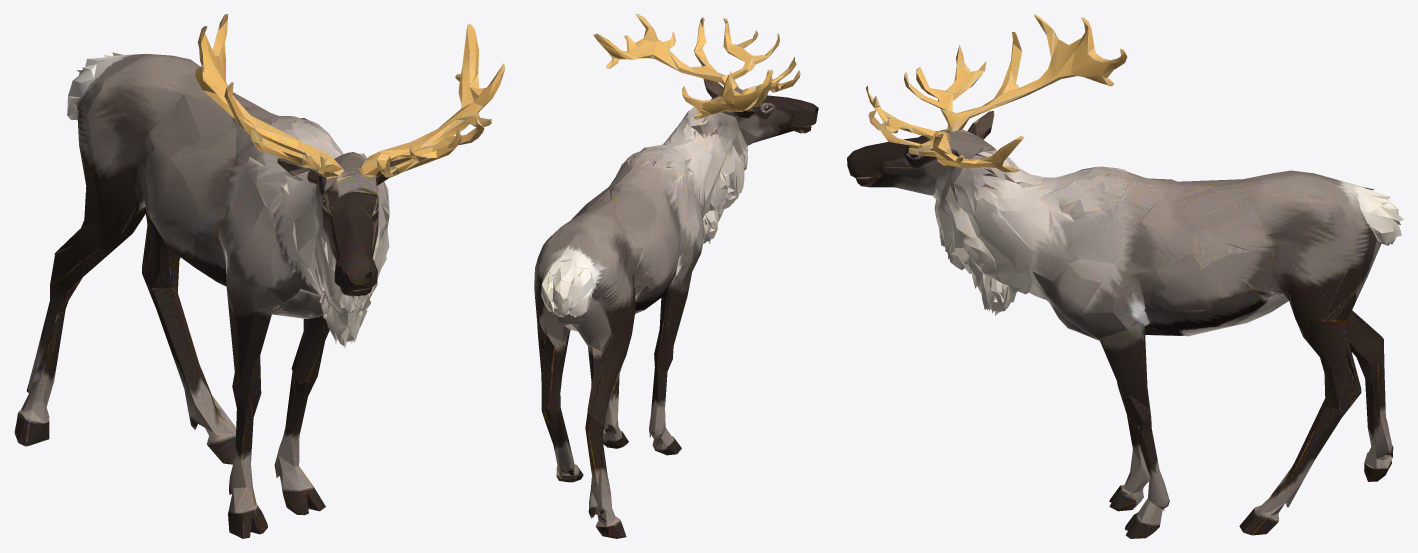
The model's file is reindeer_young.glb.
The picture shows the model from 3 angles, left to right: view 1: azimuth 30°, elevation 25°; view 2: azimuth 150°, elevation 25°; view 3: azimuth 270°, elevation 25°; orthographic projection. The views are drawn at different scales.
Parts seen in each view (by area): view 1: Mesh_0; view 2: Mesh_0; view 3: Mesh_0.
Part boxes in pixels (bbox=[...]): Mesh_0: bbox=[14, 14, 505, 538]; Mesh_0: bbox=[534, 14, 818, 538]; Mesh_0: bbox=[847, 14, 1403, 538].
Size of the model in its own units: 0.8862 by 1.73 by 1.9.
1 material, 1 textured.
